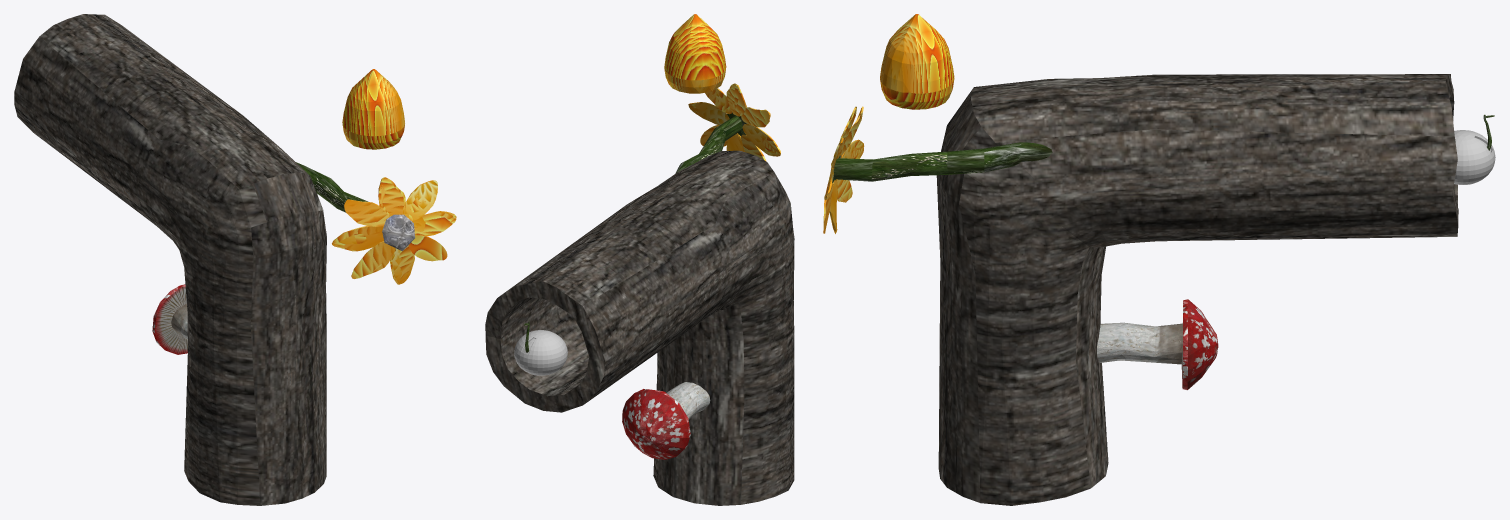
Rendered from TestPistol.fbx.
The picture shows the model from 3 angles, left to right: view 1: azimuth 30°, elevation 25°; view 2: azimuth 150°, elevation 25°; view 3: azimuth 270°, elevation 25°; orthographic projection. The views are drawn at different scales.
Visible parts, largest first — view 1: PistolBase, PistolCounter, PistolCounterEmpty, PistolTrigger; view 2: PistolBase, PistolTrigger, PistolCounter, PistolCounterEmpty, PistolBulletBase; view 3: PistolBase, PistolCounter, PistolTrigger, PistolCounterEmpty, PistolBulletBase.
Boxes of the visible parts, x1,y1,x2,y2 form: PistolBase: (14,14,326,505); PistolCounter: (296,162,456,284); PistolCounterEmpty: (342,69,404,149); PistolTrigger: (152,284,187,354); PistolBase: (485,150,794,505); PistolTrigger: (622,382,710,459); PistolCounter: (675,83,780,173); PistolCounterEmpty: (664,14,726,93); PistolBulletBase: (514,321,567,375); PistolBase: (936,74,1458,505); PistolCounter: (823,106,1052,233); PistolTrigger: (1097,299,1218,390); PistolCounterEmpty: (880,14,954,109); PistolBulletBase: (1454,114,1495,184).
Bounding box in the file's own units: 2.95 × 6.62 × 8.06.
